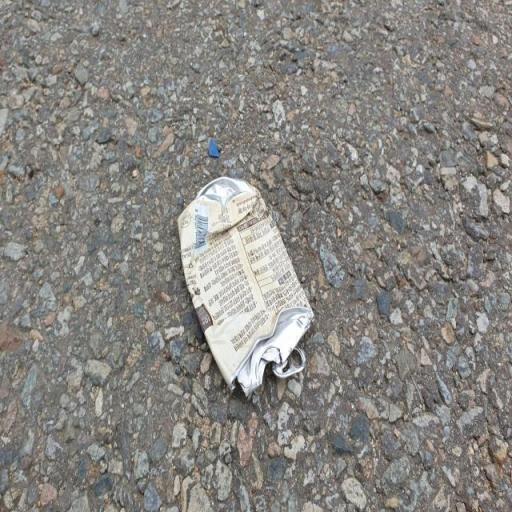metal: (165, 160, 319, 420)
